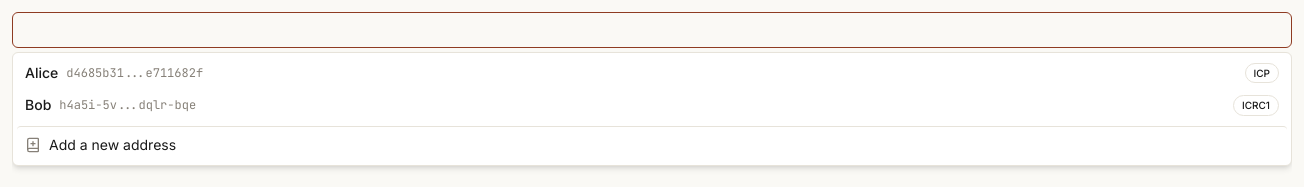
Test: DestinationInput › opens the add modal from a tap that leaves the focus on the input
The width and height of the screenshot is (1304, 187).
# A prevented mousedown keeps the focus on the input, so the list stays open.
Press the mouse on the button with test id "destination-add": [113, 144] box [17,126,1287,161]
Click the button with test id "destination-add": [113, 144] box [17,126,1287,161]
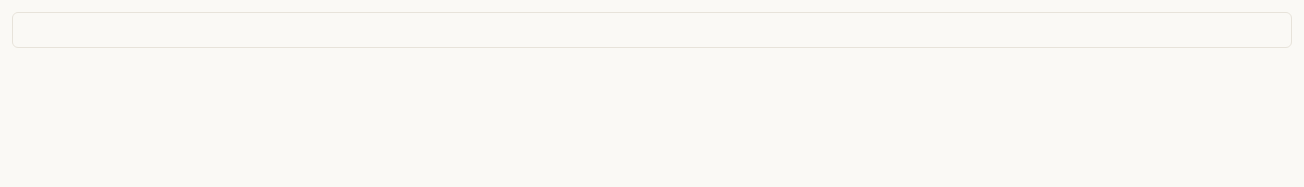
Expected: the button with test id "destination-add" is gone
